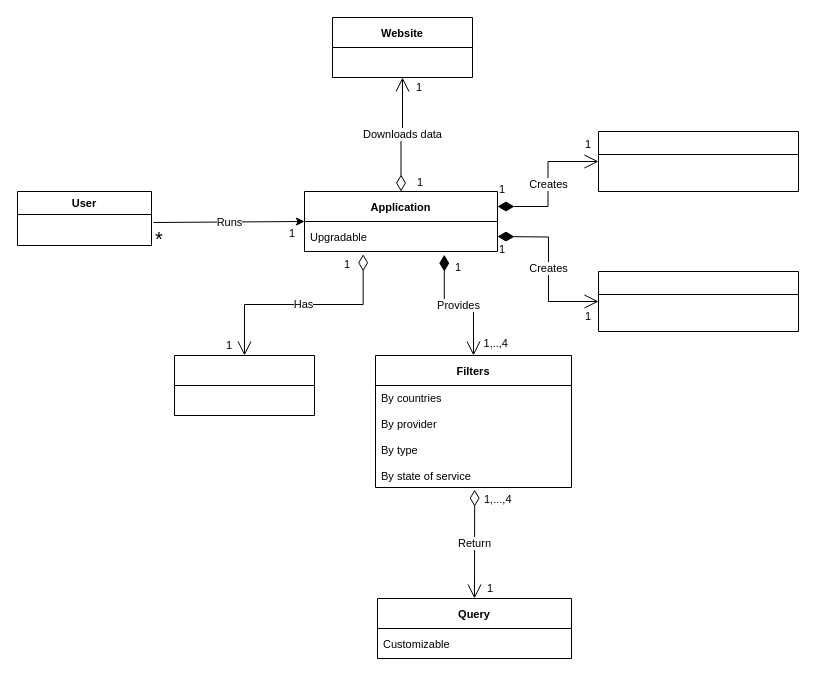
Some shapes in this 816 by 676 pixel diagram are drawn without their labels. The shapes that lost their labels are listed below. From the top down, each one's centre as x and y in pixels, then its label:
At (698,161): "List of countries".
At (698,301): "List of services' types".
At (244,385): "Guide".
